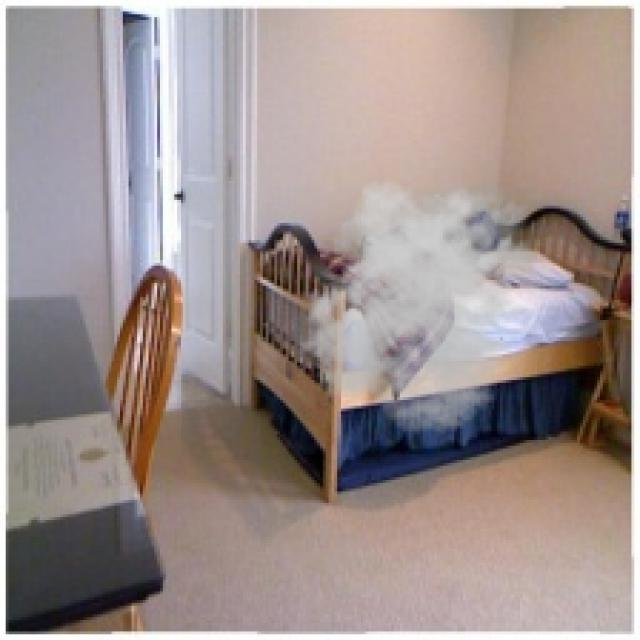smoke: (297, 172, 546, 434)
